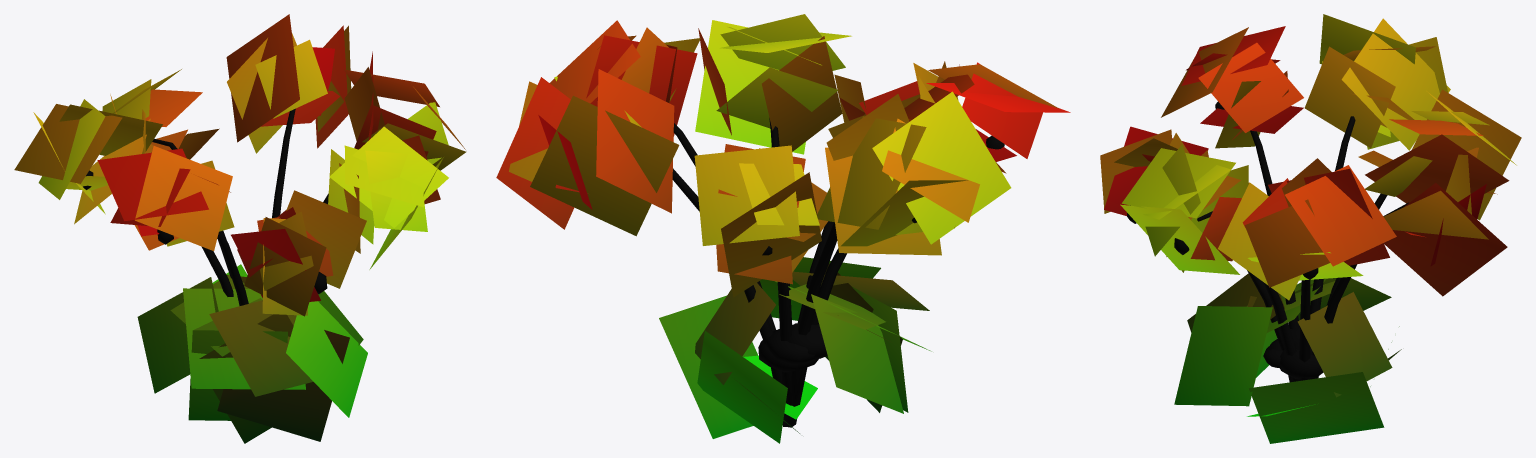
File: env_bush_bg_c.fbx
3 renders of one model, left to right at view 1: azimuth 30°, elevation 25°; view 2: azimuth 150°, elevation 25°; view 3: azimuth 270°, elevation 25°, orthographic. The views are drawn at different scales.
Parts seen in each view (by area): view 1: env_bush_bg_c; view 2: env_bush_bg_c; view 3: env_bush_bg_c.
Boxes of the visible parts, bbox=[...] form: env_bush_bg_c: bbox=[14, 14, 466, 443]; env_bush_bg_c: bbox=[496, 14, 1070, 443]; env_bush_bg_c: bbox=[1100, 14, 1521, 443].
Bounding box in the file's own units: 2.86 × 2.33 × 2.56.
